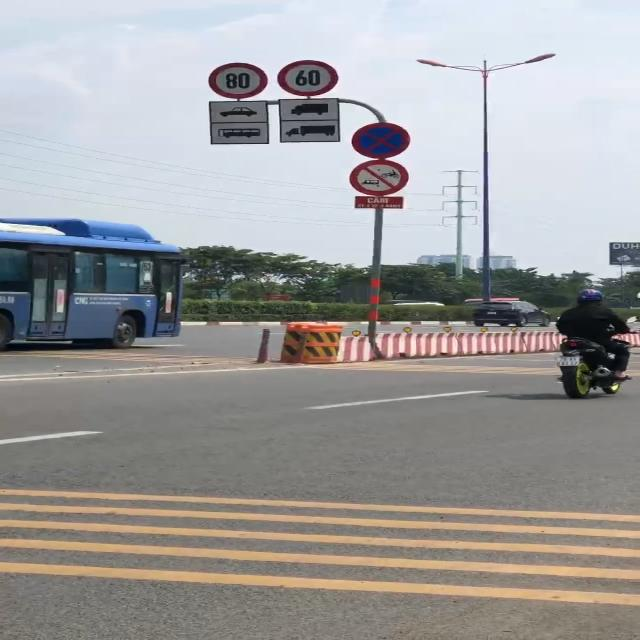Bien bao cam dung xe va do xe: (350, 122, 420, 160)
Bien bao toc do toi da cho phep: (274, 56, 350, 96), (206, 59, 272, 101)
